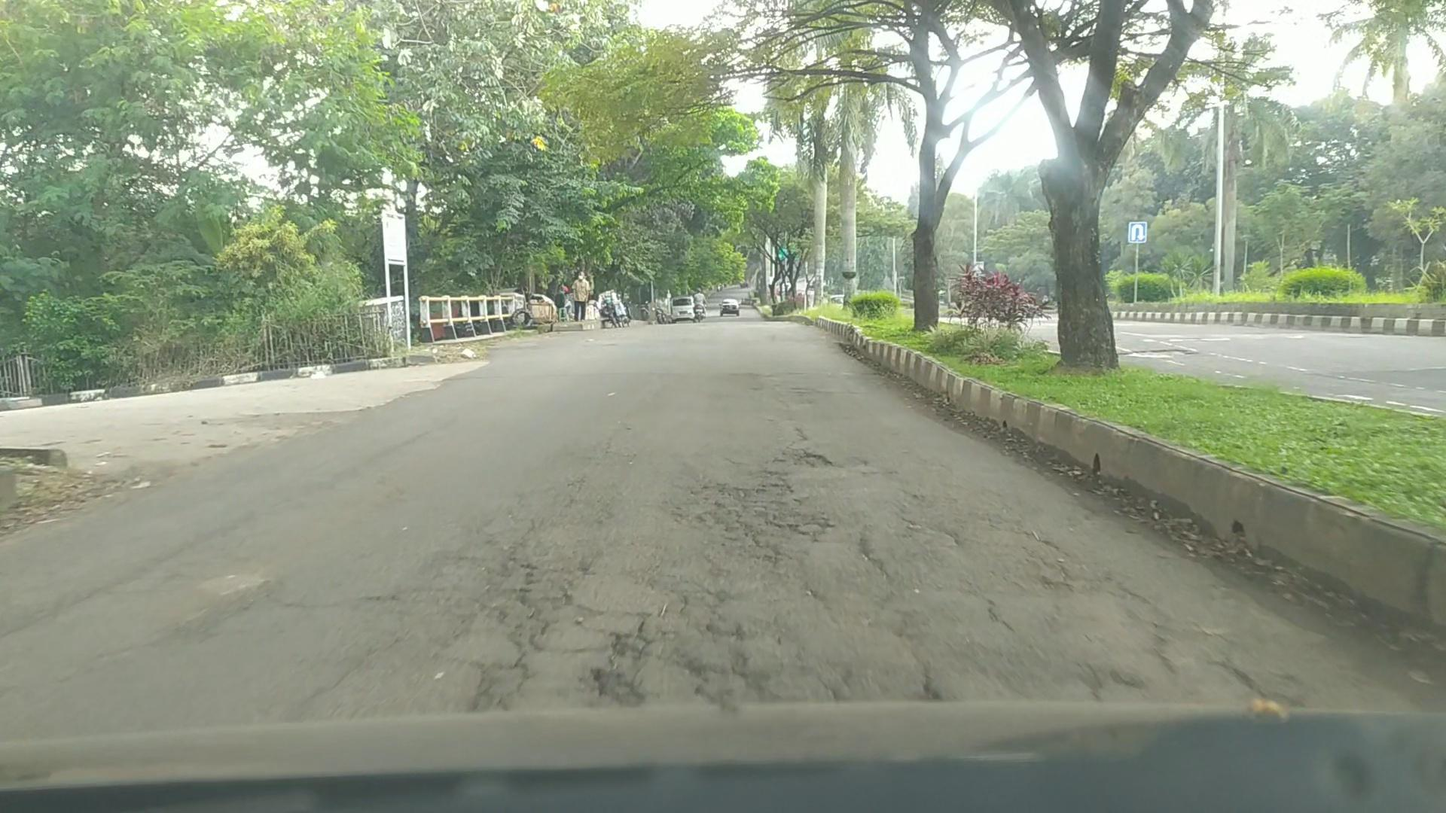pothole: (586, 664, 649, 708), (783, 445, 835, 469)
